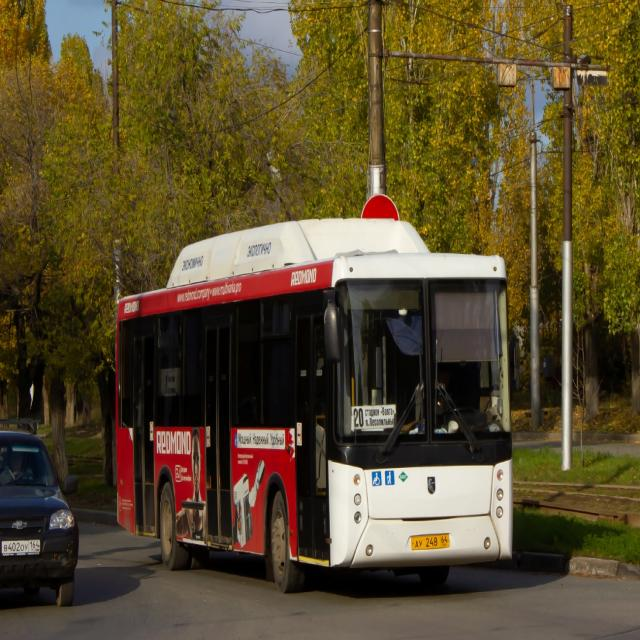number-of-bus: (354, 408, 366, 429)
